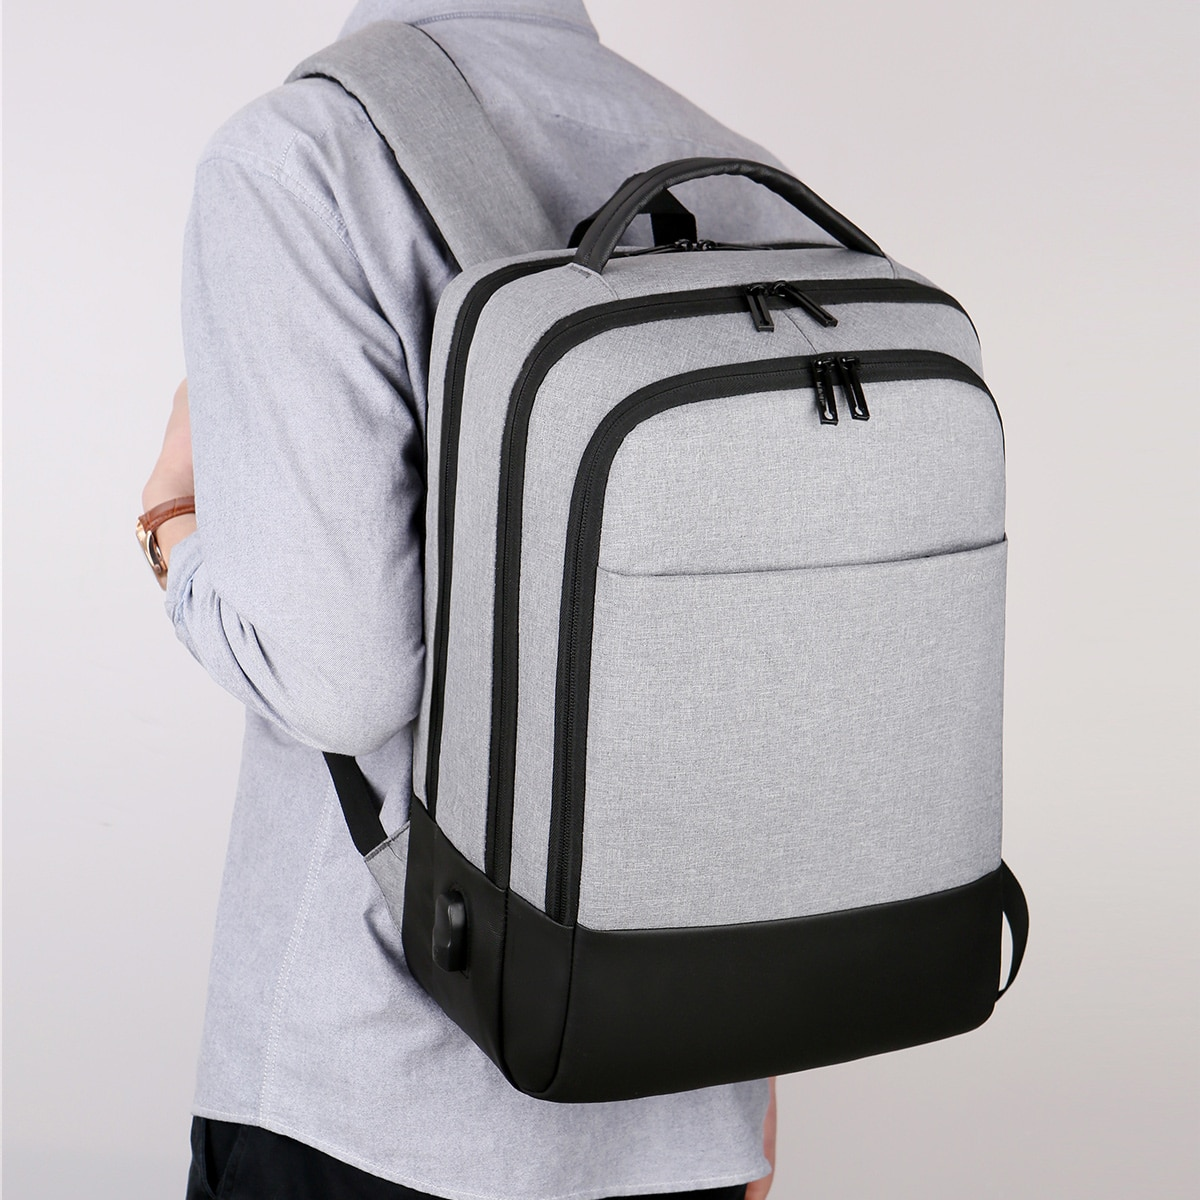Accessories|Watches: (138, 492, 202, 574)
Men's Backpacks: (278, 19, 1027, 1108)
Tops|Shirts: (169, 3, 776, 1200)
